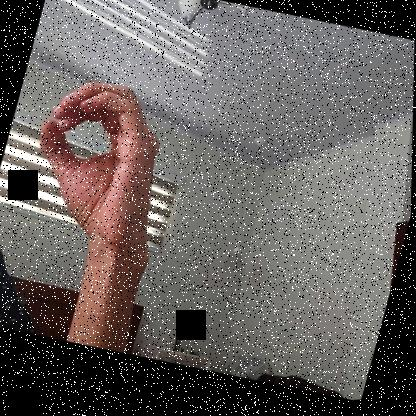O: (14, 64, 184, 261)
